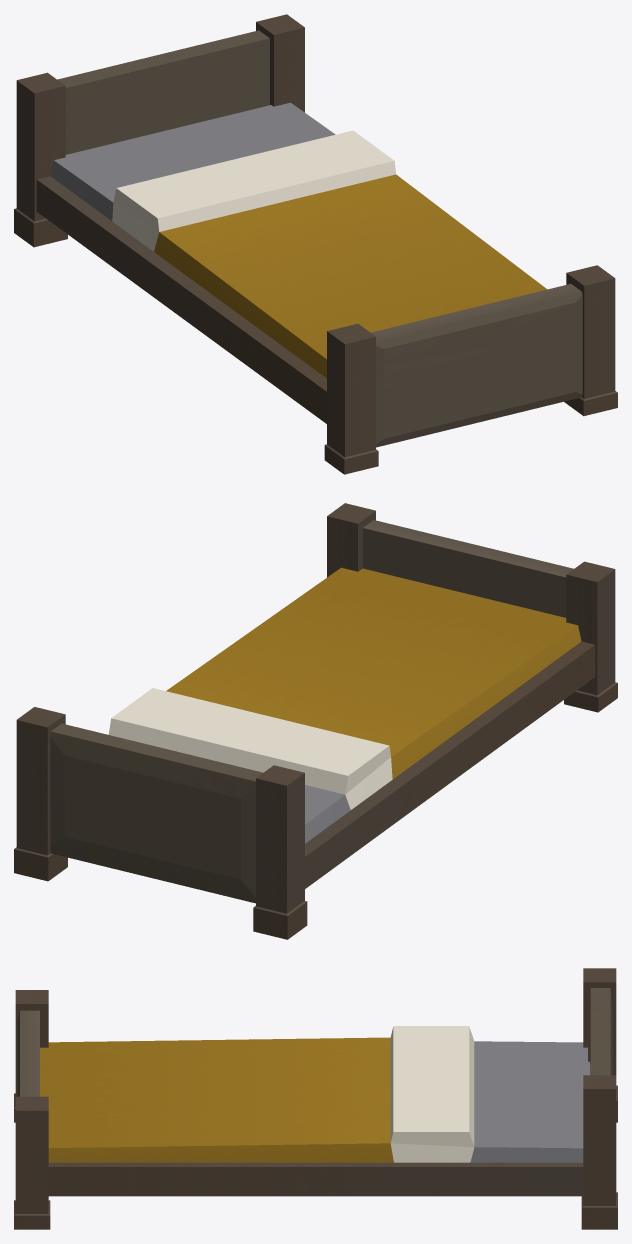
The model's file is Bed_2.fbx.
3 renders of one model, top to bottom at view 1: azimuth 30°, elevation 25°; view 2: azimuth 150°, elevation 25°; view 3: azimuth 270°, elevation 25°, orthographic. The views are drawn at different scales.
Parts seen in each view (by area): view 1: pCube779; view 2: pCube779; view 3: pCube779.
Boxes of the visible parts, <box> form: pCube779: <box>14,14,617,474</box>; pCube779: <box>14,503,617,939</box>; pCube779: <box>14,968,617,1229</box>.
Bounding box in the file's own units: 133 × 71.27 × 279.
